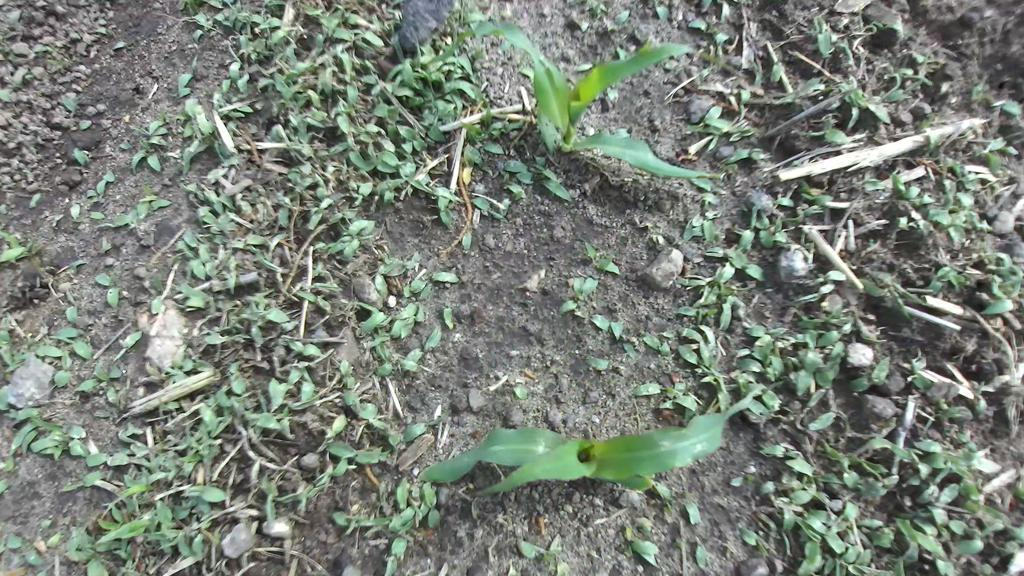BroWeed: (817, 432, 865, 493), (862, 260, 927, 305), (613, 520, 668, 571), (949, 519, 1009, 563), (910, 521, 957, 576), (798, 508, 850, 557), (913, 459, 961, 512), (846, 354, 900, 400), (923, 260, 972, 309), (676, 318, 723, 369), (263, 361, 308, 414), (403, 318, 449, 369), (794, 302, 855, 340), (769, 73, 829, 110), (511, 533, 562, 576), (960, 497, 1017, 535), (279, 104, 326, 150), (800, 109, 854, 149), (784, 277, 837, 317), (96, 479, 153, 516), (403, 174, 466, 207), (791, 383, 828, 439), (870, 285, 912, 334), (432, 73, 486, 111), (398, 403, 448, 444), (768, 198, 823, 235), (329, 508, 392, 540), (855, 436, 920, 467), (696, 73, 747, 112), (939, 153, 985, 196), (324, 438, 392, 467), (849, 86, 896, 127), (575, 241, 622, 282), (94, 516, 154, 548), (706, 292, 751, 334), (726, 247, 771, 289), (170, 238, 212, 283), (47, 325, 97, 362), (895, 197, 937, 239), (128, 103, 173, 142), (336, 385, 381, 424), (674, 335, 712, 381), (64, 539, 111, 576), (275, 482, 322, 519), (776, 477, 823, 514), (370, 300, 421, 334), (731, 520, 775, 559), (57, 466, 110, 498), (406, 39, 435, 97), (359, 92, 407, 127), (253, 470, 286, 520), (920, 173, 957, 217), (309, 456, 354, 492), (795, 516, 822, 576), (367, 252, 402, 298), (422, 89, 462, 129), (383, 247, 425, 285), (882, 74, 927, 109), (826, 498, 863, 540), (900, 346, 933, 393), (821, 388, 853, 436), (747, 506, 786, 545), (106, 324, 146, 362), (172, 135, 209, 176), (844, 416, 900, 443), (166, 415, 202, 457), (205, 138, 246, 174), (172, 50, 207, 92), (811, 320, 858, 351), (199, 325, 251, 353), (920, 449, 986, 471), (781, 324, 831, 353), (64, 520, 100, 560), (395, 116, 430, 157), (106, 450, 163, 475), (934, 396, 978, 428), (361, 142, 398, 180), (242, 240, 281, 276), (884, 167, 921, 204), (368, 412, 405, 449), (1, 419, 37, 457), (969, 141, 1008, 176), (346, 144, 381, 183), (971, 290, 1015, 321), (871, 57, 905, 97), (269, 336, 325, 360), (265, 66, 302, 102), (470, 190, 506, 227), (279, 54, 318, 88), (794, 349, 821, 398), (736, 205, 763, 254), (843, 452, 890, 480), (688, 101, 726, 135), (946, 516, 989, 546), (111, 430, 151, 462), (331, 40, 360, 84), (464, 146, 500, 181), (849, 318, 887, 351), (892, 519, 918, 567), (983, 124, 1022, 156), (50, 347, 79, 390), (150, 497, 179, 540), (380, 533, 409, 576), (790, 267, 846, 289), (295, 284, 336, 314), (316, 1, 351, 36), (351, 24, 386, 59), (331, 110, 368, 143), (351, 307, 388, 340), (649, 476, 678, 518), (966, 379, 995, 421), (246, 300, 292, 326), (136, 360, 171, 394), (386, 502, 420, 537), (538, 173, 576, 204), (775, 508, 799, 557), (181, 481, 228, 506), (783, 452, 822, 482), (173, 278, 212, 308), (859, 474, 902, 501), (895, 63, 935, 92), (830, 542, 864, 576), (740, 399, 775, 432), (420, 481, 444, 529), (727, 340, 773, 365), (542, 535, 570, 576), (144, 431, 181, 462), (751, 205, 775, 252), (937, 481, 980, 507), (904, 445, 935, 481), (259, 226, 289, 263), (928, 501, 955, 542), (927, 208, 973, 232), (765, 77, 809, 102), (684, 264, 728, 289), (765, 493, 807, 519), (143, 524, 177, 556), (386, 73, 418, 107), (384, 308, 416, 342), (123, 141, 154, 176), (601, 5, 636, 36), (966, 70, 996, 106), (705, 114, 750, 138), (244, 286, 281, 315), (156, 529, 194, 557), (165, 131, 198, 163), (50, 102, 81, 136), (322, 410, 352, 445), (198, 180, 227, 216), (28, 430, 71, 454), (721, 144, 770, 165), (193, 242, 220, 280), (280, 84, 312, 116), (355, 65, 387, 97), (297, 82, 328, 115), (961, 208, 995, 238), (188, 102, 217, 137), (280, 392, 320, 417), (688, 172, 728, 197), (219, 53, 250, 85), (224, 72, 255, 104), (198, 208, 231, 238), (225, 231, 270, 253), (262, 81, 288, 119), (186, 488, 215, 522), (196, 443, 220, 484), (805, 409, 840, 437), (809, 355, 835, 392), (660, 53, 691, 84), (123, 467, 171, 487), (242, 407, 282, 431), (498, 172, 528, 204), (347, 177, 376, 210), (496, 184, 525, 217), (912, 406, 940, 440), (175, 175, 210, 202), (917, 112, 940, 153), (317, 56, 340, 97), (852, 275, 888, 301), (485, 115, 524, 139), (212, 387, 248, 413), (362, 325, 392, 356), (823, 338, 845, 380), (372, 171, 405, 199), (428, 58, 462, 85), (743, 322, 788, 342), (335, 236, 365, 266), (50, 20, 81, 49), (778, 467, 809, 496), (341, 213, 373, 241), (937, 408, 964, 441), (806, 503, 840, 529), (959, 168, 1001, 189), (689, 536, 711, 576), (813, 14, 833, 58), (0, 239, 35, 264), (92, 210, 130, 233), (761, 354, 789, 385), (285, 149, 316, 177), (316, 186, 352, 210), (139, 137, 162, 174), (246, 312, 269, 349), (198, 403, 223, 437), (381, 59, 405, 94), (434, 194, 458, 229), (716, 261, 736, 303), (323, 233, 355, 259), (273, 410, 299, 442), (184, 97, 202, 143), (757, 474, 793, 497), (698, 320, 721, 356), (29, 415, 68, 436), (375, 147, 409, 171), (688, 205, 722, 229), (949, 188, 977, 217), (247, 33, 275, 62), (265, 122, 292, 152), (31, 40, 67, 62), (729, 367, 753, 400), (263, 189, 299, 211), (98, 380, 125, 409), (628, 511, 657, 538), (679, 218, 706, 247), (705, 364, 732, 393), (213, 404, 236, 438), (630, 379, 669, 399), (9, 242, 44, 264), (395, 145, 417, 180), (169, 499, 201, 523), (759, 379, 783, 411), (290, 138, 322, 162), (842, 92, 861, 132), (17, 425, 40, 458), (456, 119, 489, 142), (340, 10, 376, 31), (57, 89, 83, 118), (954, 428, 980, 457), (212, 185, 238, 214), (284, 166, 313, 192), (692, 187, 721, 213), (911, 513, 941, 538), (812, 489, 844, 512), (947, 461, 979, 484), (423, 115, 446, 147), (344, 46, 370, 74), (410, 77, 436, 105), (689, 282, 715, 310), (861, 526, 894, 548), (86, 177, 110, 207), (142, 192, 172, 216), (985, 273, 1009, 303), (833, 37, 857, 67), (732, 86, 752, 122), (714, 383, 738, 413), (337, 357, 358, 391), (150, 446, 181, 469), (780, 355, 802, 387), (304, 105, 336, 127), (901, 472, 928, 498), (387, 25, 405, 64), (203, 159, 230, 185), (355, 219, 381, 246), (634, 328, 663, 352), (733, 354, 766, 375), (369, 12, 402, 33), (430, 267, 460, 290), (209, 130, 232, 160), (406, 484, 424, 522), (161, 453, 183, 484), (399, 57, 419, 91), (424, 54, 458, 74), (311, 259, 337, 285), (69, 142, 94, 169), (3, 349, 28, 376), (630, 212, 657, 237), (102, 498, 126, 526), (362, 120, 394, 141), (370, 133, 399, 156), (360, 39, 395, 58), (767, 52, 787, 85), (674, 304, 718, 319), (635, 33, 661, 58), (250, 68, 277, 92), (314, 141, 350, 159), (228, 358, 246, 394), (302, 206, 325, 234), (153, 395, 181, 418), (1001, 547, 1023, 576), (947, 223, 969, 252), (309, 25, 330, 55), (446, 90, 467, 120), (375, 341, 393, 376), (835, 73, 860, 98), (217, 2, 242, 27), (215, 206, 240, 231), (231, 191, 255, 217), (765, 223, 792, 246), (814, 470, 845, 490), (251, 14, 282, 34), (579, 276, 599, 307), (758, 443, 799, 458), (897, 46, 926, 67), (701, 281, 722, 310), (911, 436, 943, 455), (304, 48, 336, 67), (746, 396, 770, 421), (848, 563, 894, 576), (566, 11, 592, 34), (587, 310, 613, 333), (180, 356, 215, 373), (748, 56, 766, 89), (699, 218, 721, 245), (308, 279, 345, 295), (38, 440, 66, 461), (266, 27, 294, 48), (83, 449, 112, 469), (75, 376, 107, 394), (22, 548, 46, 572), (789, 347, 813, 371), (515, 59, 539, 83), (235, 388, 259, 412), (700, 245, 736, 261), (413, 42, 438, 65), (89, 361, 111, 387), (243, 62, 281, 77), (301, 113, 328, 134), (800, 192, 833, 209), (175, 449, 210, 465), (683, 496, 701, 527), (766, 192, 797, 210), (530, 165, 561, 183), (64, 288, 79, 325), (658, 395, 695, 410), (728, 471, 757, 490), (272, 345, 288, 379), (52, 325, 88, 340), (91, 539, 129, 553), (111, 557, 139, 576), (64, 255, 87, 278), (701, 396, 724, 419), (0, 228, 22, 252), (212, 9, 236, 31), (197, 432, 221, 454), (415, 281, 437, 305), (751, 332, 776, 353), (686, 12, 711, 33), (224, 308, 245, 333), (66, 438, 92, 458), (973, 455, 999, 475), (710, 30, 729, 57), (385, 119, 402, 149), (186, 423, 203, 453), (4, 408, 43, 421), (0, 531, 23, 553), (456, 51, 478, 74), (771, 337, 795, 358), (583, 354, 611, 372), (179, 226, 200, 250), (596, 250, 617, 274), (131, 197, 151, 222), (63, 422, 88, 442), (395, 356, 420, 376), (460, 8, 491, 24), (283, 35, 298, 68), (6, 50, 35, 67), (991, 540, 1020, 557), (91, 236, 113, 258), (44, 529, 66, 551), (796, 232, 818, 254), (117, 496, 138, 519), (173, 296, 207, 310), (171, 341, 188, 369), (498, 160, 532, 174), (882, 224, 901, 249), (463, 142, 474, 185), (142, 508, 160, 534), (225, 255, 237, 294), (797, 179, 826, 195), (176, 119, 198, 140), (870, 17, 903, 31), (467, 42, 488, 64), (226, 397, 247, 419), (408, 274, 430, 295), (823, 431, 846, 451), (695, 60, 715, 83), (342, 130, 362, 153), (176, 457, 196, 480), (263, 376, 282, 400), (620, 341, 639, 365), (672, 276, 707, 289), (10, 64, 28, 89), (104, 284, 122, 309), (330, 100, 355, 118), (355, 299, 380, 317), (663, 381, 688, 399), (92, 24, 120, 40), (856, 516, 884, 532), (779, 441, 805, 458), (909, 191, 935, 208), (303, 166, 324, 187), (417, 106, 437, 128), (247, 189, 269, 209), (6, 9, 25, 32), (556, 297, 579, 316), (609, 318, 628, 341), (396, 319, 419, 338), (209, 221, 238, 236), (853, 178, 884, 192), (397, 477, 410, 510), (690, 122, 723, 135), (415, 499, 434, 521), (830, 12, 852, 31), (727, 128, 753, 144), (298, 3, 324, 19), (332, 28, 364, 41), (35, 343, 64, 357), (313, 172, 327, 201), (144, 132, 171, 147), (468, 3, 483, 30), (458, 229, 474, 254), (359, 58, 379, 78), (197, 421, 213, 446), (998, 279, 1019, 298), (209, 90, 228, 111), (25, 189, 43, 211), (123, 422, 145, 440), (169, 84, 192, 101), (254, 387, 269, 413), (820, 552, 836, 576), (448, 11, 460, 43), (302, 368, 314, 400), (282, 121, 301, 141), (165, 368, 186, 386), (0, 341, 15, 366), (222, 106, 247, 121), (480, 139, 505, 154), (856, 546, 873, 568), (94, 518, 120, 532), (576, 301, 595, 320), (250, 181, 269, 200), (1, 453, 19, 473), (8, 551, 28, 569), (896, 509, 932, 519), (896, 214, 917, 231), (678, 407, 695, 428), (532, 151, 548, 173), (441, 306, 455, 331), (477, 105, 491, 130), (0, 316, 12, 345), (199, 130, 218, 148), (340, 176, 358, 195), (615, 42, 632, 62), (253, 96, 273, 113), (702, 13, 718, 34), (345, 80, 357, 108), (999, 142, 1021, 157), (264, 0, 286, 15), (354, 130, 376, 145), (906, 447, 933, 459), (171, 108, 190, 125), (113, 543, 132, 560), (794, 527, 811, 546), (742, 368, 761, 385), (48, 211, 64, 231), (280, 317, 300, 333), (244, 10, 265, 25), (238, 34, 253, 55), (312, 77, 325, 101), (239, 310, 265, 322), (611, 125, 633, 139), (952, 416, 968, 435), (869, 89, 889, 104), (706, 133, 721, 153), (223, 117, 238, 137), (572, 275, 584, 300), (190, 534, 204, 555), (1010, 524, 1024, 545), (1014, 472, 1024, 501), (940, 447, 969, 457), (76, 116, 93, 133), (195, 202, 213, 218), (151, 271, 164, 293), (276, 206, 289, 228), (413, 301, 426, 323), (512, 172, 534, 185), (140, 185, 159, 200), (409, 69, 428, 84), (474, 93, 489, 112), (149, 294, 163, 314), (892, 556, 906, 576), (400, 136, 414, 156), (189, 27, 206, 43), (399, 283, 416, 299), (379, 2, 394, 20), (381, 188, 395, 207), (659, 328, 678, 342), (774, 239, 798, 250), (47, 60, 67, 73), (94, 408, 114, 421), (574, 61, 594, 74), (688, 64, 701, 84), (100, 169, 116, 185), (248, 49, 265, 64), (112, 445, 135, 456), (715, 163, 738, 174), (402, 96, 423, 108), (208, 233, 229, 245), (657, 341, 671, 359), (770, 413, 795, 423), (338, 157, 348, 182), (219, 77, 232, 96), (651, 233, 664, 252), (0, 389, 11, 411), (117, 138, 132, 154), (107, 365, 123, 380), (844, 527, 856, 547), (823, 505, 839, 520), (741, 462, 757, 477), (718, 0, 728, 24), (507, 558, 520, 576), (472, 207, 483, 228), (431, 31, 443, 50), (507, 144, 522, 159), (730, 223, 745, 238), (978, 562, 994, 576), (410, 151, 424, 167), (439, 31, 455, 45), (220, 269, 234, 285), (379, 251, 393, 267), (95, 272, 112, 285), (0, 31, 10, 53), (128, 206, 138, 228), (214, 325, 236, 335), (827, 25, 839, 43), (497, 39, 512, 53), (419, 172, 433, 187), (821, 479, 840, 490), (446, 72, 465, 83), (232, 17, 245, 33), (512, 386, 528, 399), (693, 365, 709, 378), (661, 60, 678, 72), (698, 374, 718, 384), (314, 241, 336, 250), (692, 46, 704, 62), (607, 87, 619, 103), (88, 210, 105, 221), (38, 517, 52, 530), (323, 164, 337, 177), (442, 93, 457, 105), (694, 311, 706, 326), (110, 41, 132, 49), (70, 202, 81, 218), (182, 16, 201, 25), (294, 183, 307, 196), (171, 124, 185, 136), (373, 90, 387, 102), (453, 0, 461, 21), (324, 160, 345, 168), (83, 188, 98, 199), (0, 478, 11, 493), (743, 471, 754, 486), (150, 127, 168, 136), (379, 480, 386, 503), (675, 154, 698, 161), (204, 0, 224, 8), (95, 16, 108, 28), (23, 69, 35, 82), (0, 89, 12, 102), (204, 16, 214, 31), (468, 73, 480, 85), (232, 414, 244, 426), (397, 295, 409, 307), (248, 121, 259, 134), (567, 188, 580, 199), (672, 540, 684, 551), (902, 495, 913, 507), (336, 235, 352, 243), (866, 235, 876, 247), (838, 191, 850, 201), (443, 21, 451, 36), (237, 105, 254, 112), (118, 501, 127, 514), (566, 0, 585, 6), (328, 120, 339, 130), (0, 204, 9, 216), (184, 306, 199, 313), (334, 127, 343, 138), (347, 189, 358, 198), (208, 299, 215, 313), (735, 0, 753, 5), (188, 193, 197, 203), (428, 192, 439, 200), (351, 64, 356, 80), (169, 408, 177, 418), (247, 418, 257, 426), (192, 0, 205, 6), (453, 45, 460, 56), (515, 139, 526, 146), (318, 246, 330, 252), (122, 115, 130, 123), (479, 209, 488, 216), (599, 127, 609, 133), (463, 42, 469, 52), (223, 0, 234, 5), (473, 123, 481, 129), (0, 52, 4, 61), (0, 464, 6, 469)
Maize: (414, 11, 740, 183), (411, 381, 773, 514)
